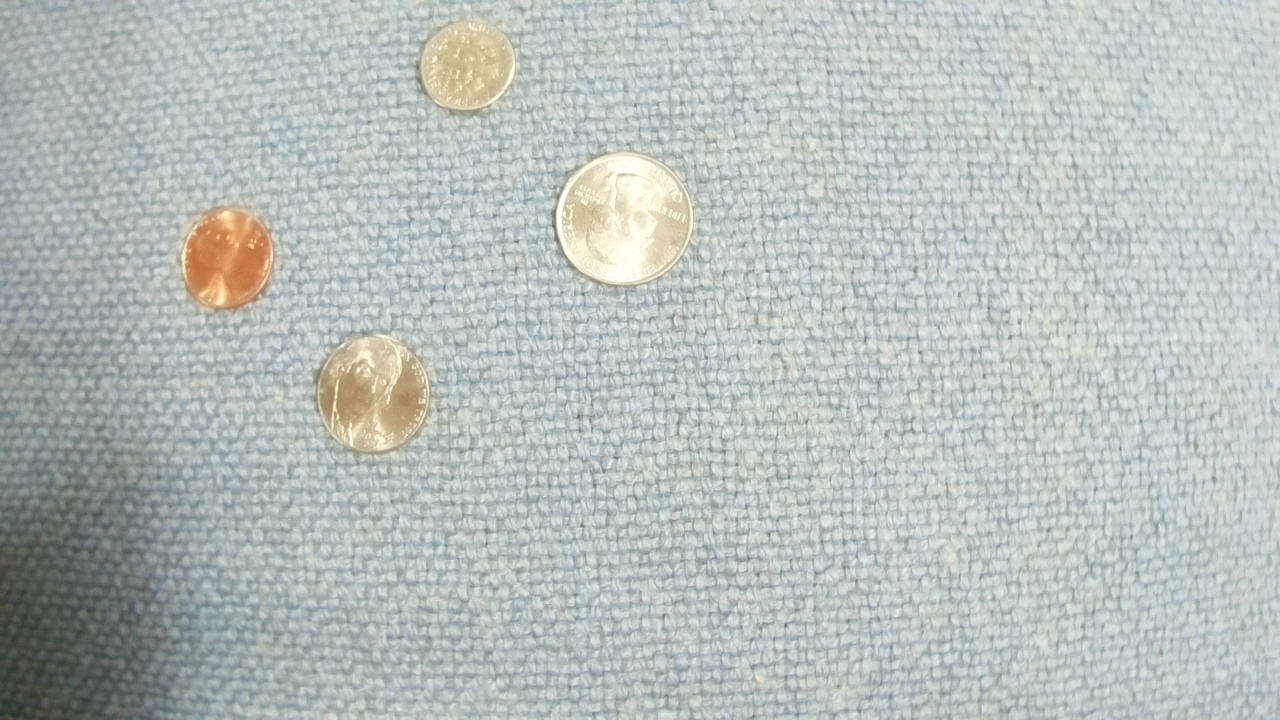dime: (417, 16, 519, 112)
nickel: (314, 333, 431, 454)
penny: (181, 205, 277, 310)
quarter: (553, 148, 695, 288)
